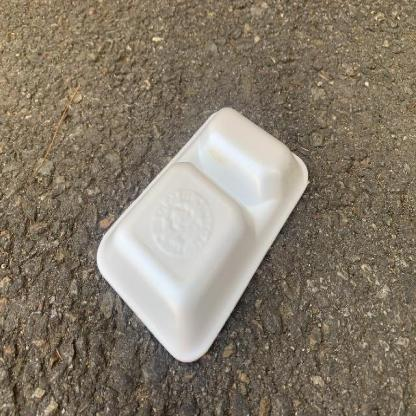Glass Cup: (96, 106, 310, 364), (97, 107, 309, 362)
